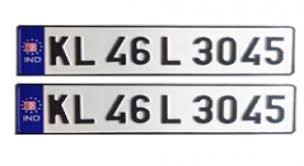inlp: (10, 81, 300, 145), (11, 20, 298, 80)
